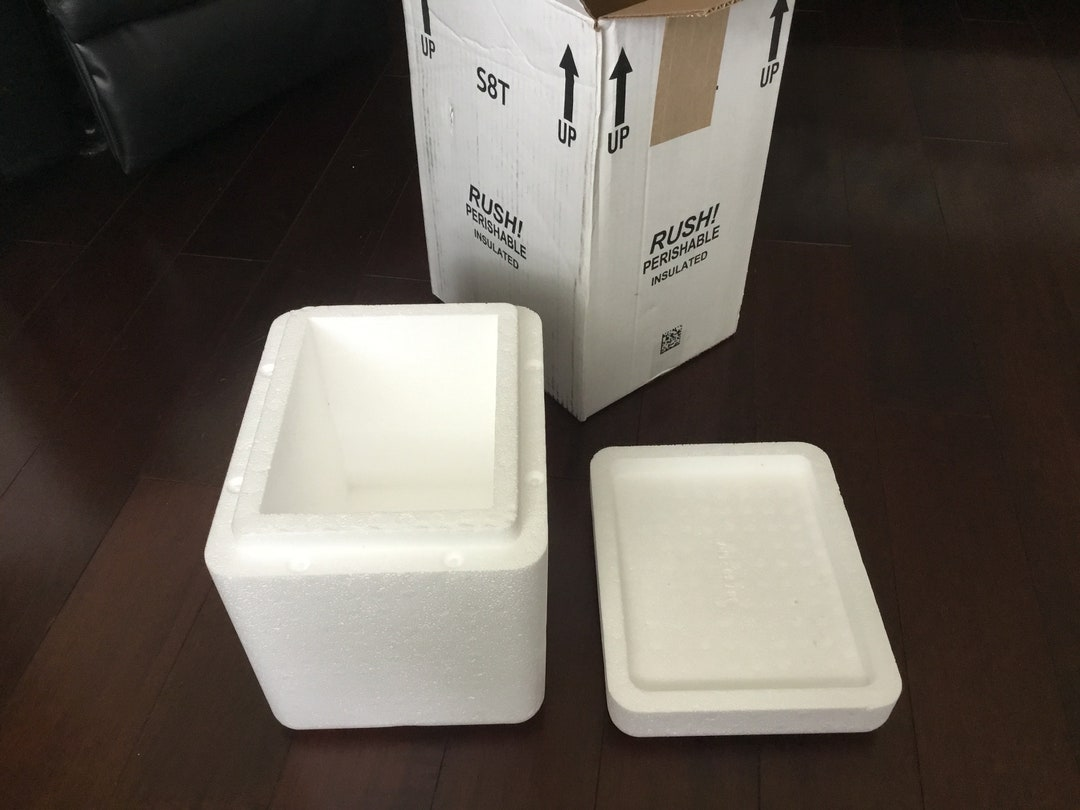Boxes: (206, 304, 548, 729)
